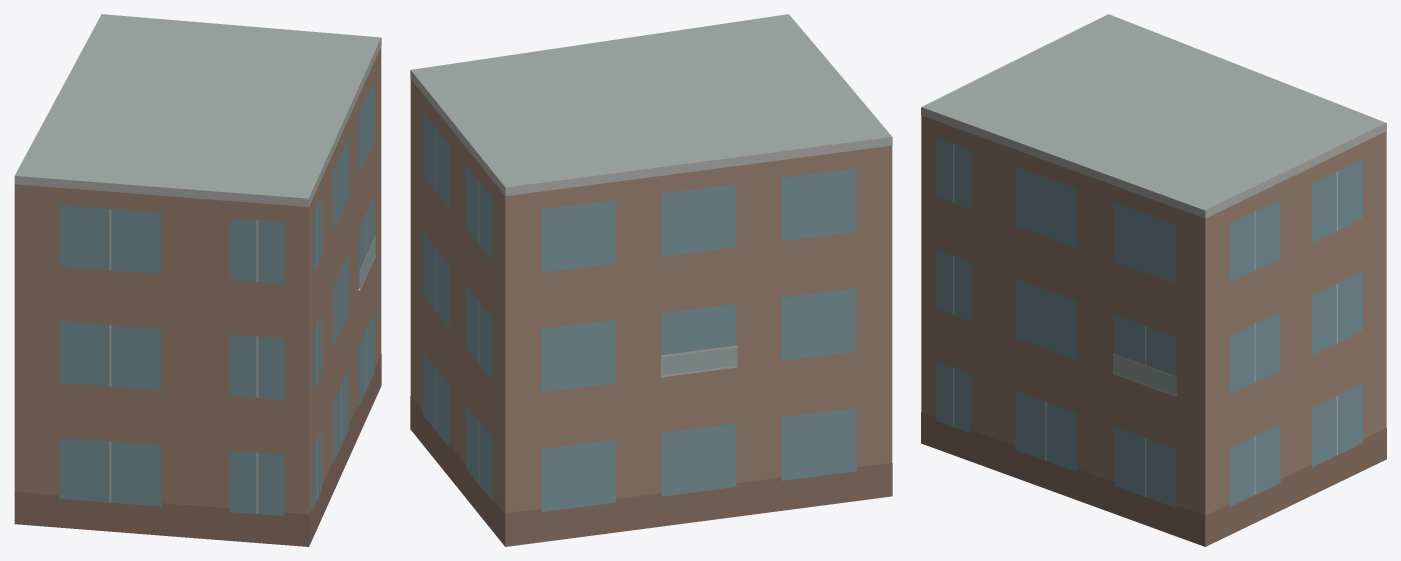
The model's file is survey-upis-32609774.glb.
3 views of the same model, side by side, from view 1: azimuth 30°, elevation 25°; view 2: azimuth 150°, elevation 25°; view 3: azimuth 270°, elevation 25° (orthographic). The views are drawn at different scales.
Parts seen in each view (by area): view 1: survey-upis-32609774.tmp; view 2: survey-upis-32609774.tmp; view 3: survey-upis-32609774.tmp.
Boxes of the visible parts, box(x1,y1,x2,y2) form: survey-upis-32609774.tmp: box(14, 14, 381, 546); survey-upis-32609774.tmp: box(410, 14, 892, 546); survey-upis-32609774.tmp: box(921, 14, 1386, 546).
Size of the model in its own units: 12.66 by 10.1 by 12.68.
